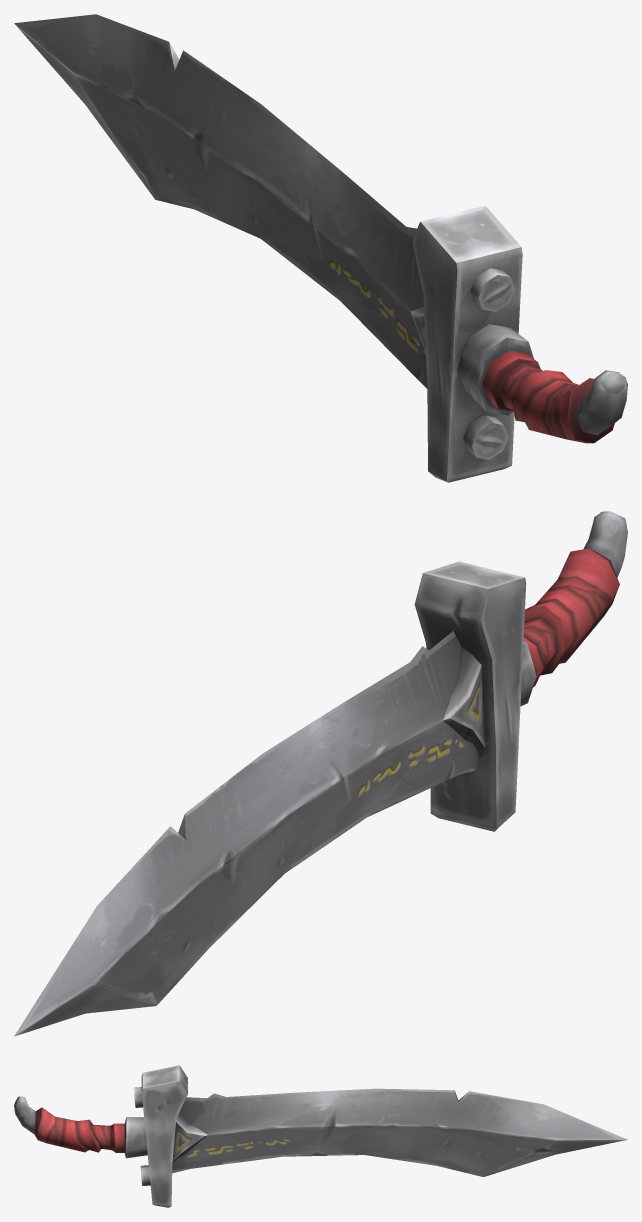
Rendered from lowpoly_stylized_scimitar.glb.
3 renders of one model, top to bottom at view 1: azimuth 30°, elevation 25°; view 2: azimuth 150°, elevation 25°; view 3: azimuth 270°, elevation 25°, orthographic. The views are drawn at different scales.
Visible parts, largest first — view 1: Object001_Object001_mtl_0; view 2: Object001_Object001_mtl_0; view 3: Object001_Object001_mtl_0.
Boxes of the visible parts, x1,y1,x2,y2 form: Object001_Object001_mtl_0: (14,14,627,482); Object001_Object001_mtl_0: (14,511,627,1036); Object001_Object001_mtl_0: (14,1065,627,1207).
Bounding box in the file's own units: 3.57 × 13.03 × 56.81.
1 material, 1 textured.
